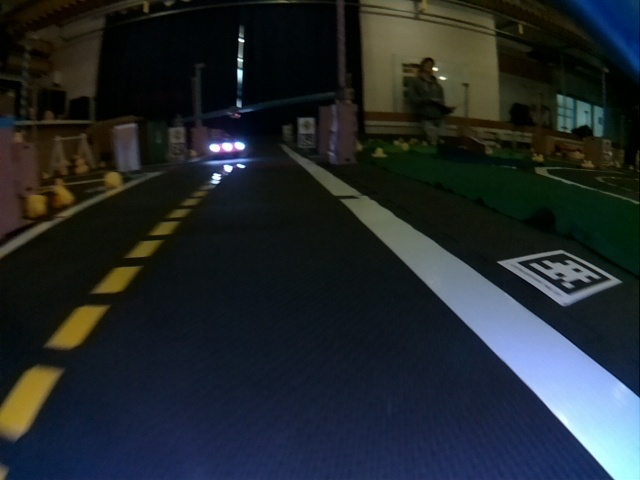Duckie: (48, 183, 72, 205), (104, 173, 122, 189)
Duckiebot: (206, 139, 247, 158)
QR code: (501, 249, 622, 306), (300, 133, 312, 148)
